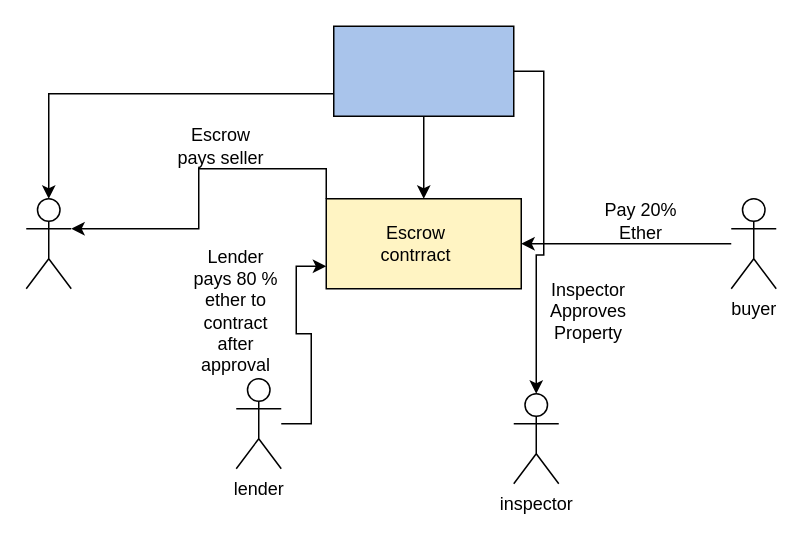
The diagram is 803 pixels wide and 542 high, and some of its shapes have lost their labels. Each missing label, with the centre of its shape:
Property in nft IERC 721: (x=423, y=70)
seller: (x=48, y=243)
